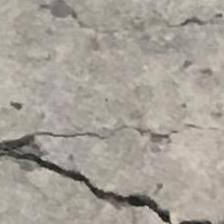Crack: (4, 126, 211, 224)
